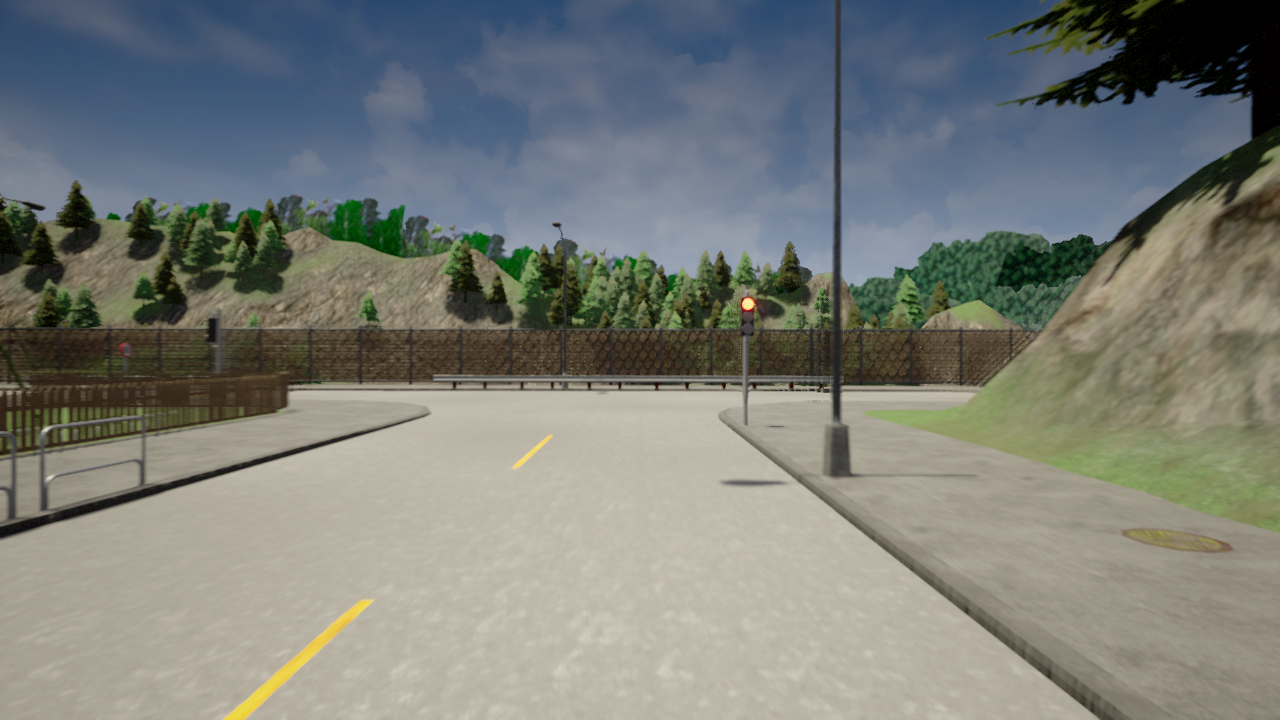red: (740, 295, 757, 338)
